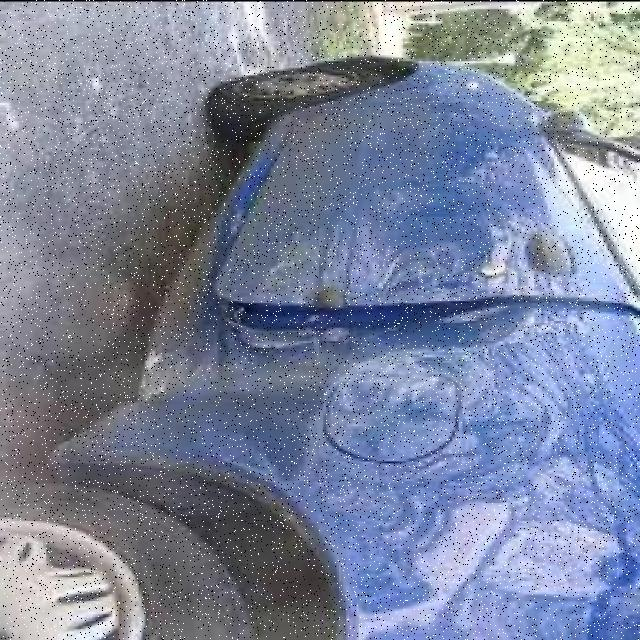damage: (66, 273, 552, 503)
